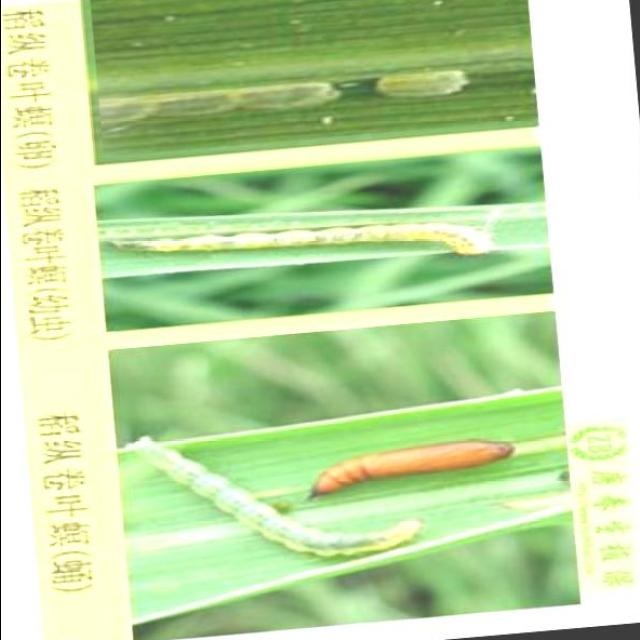leaf folder: (124, 437, 385, 557), (114, 223, 493, 254), (310, 440, 514, 496), (154, 80, 237, 119), (98, 77, 154, 134), (240, 81, 339, 109), (374, 69, 469, 96), (387, 521, 418, 542)
